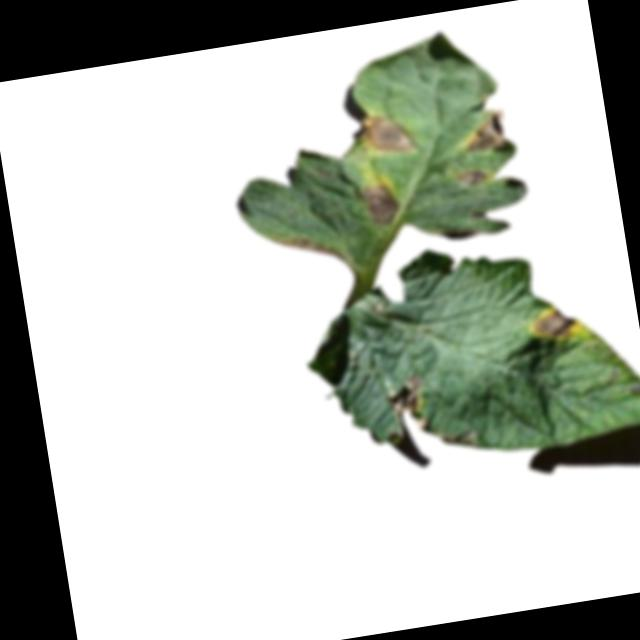Early_blight: (352, 107, 416, 160), (272, 230, 344, 273), (387, 373, 432, 439), (459, 109, 517, 159), (358, 181, 403, 229), (527, 303, 576, 347), (454, 164, 489, 190)
